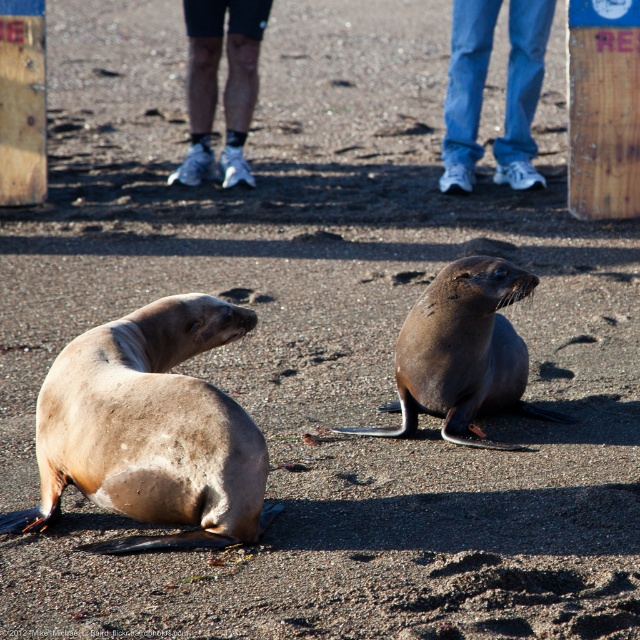Sea lion: (0, 289, 274, 541), (330, 257, 539, 451)
